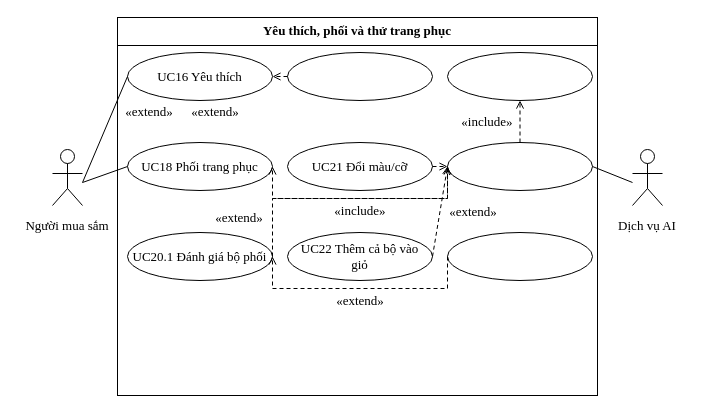
Image size: 714x413. Some labels were removed from this diagram. The centre of each missing label's shape, as x and y in pixels:
"UC17 Xem yêu thích" goes at pixel 359 76.
"UC19 Tải ảnh" goes at pixel 519 76.
"UC20 Thử đồ ảo" goes at pixel 519 166.
"UC20.2 Phản hồi" goes at pixel 519 256.
